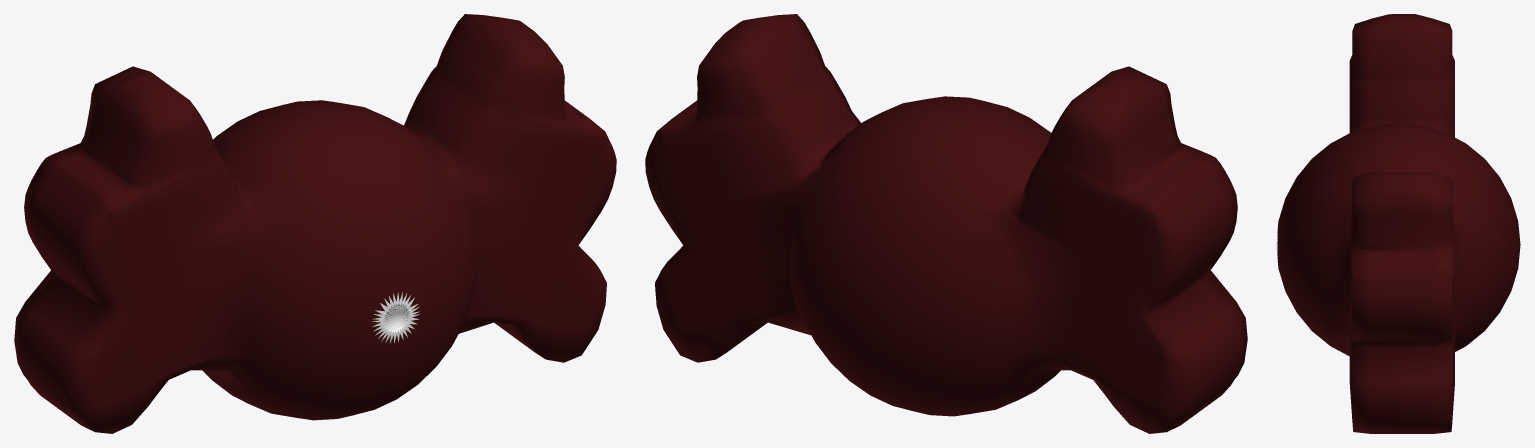
Rendered from ChucheRoja.fbx.
3 renders of one model, left to right at view 1: azimuth 30°, elevation 25°; view 2: azimuth 150°, elevation 25°; view 3: azimuth 270°, elevation 25°, orthographic. The views are drawn at different scales.
Visible parts, largest first — view 1: Box002; view 2: Box002; view 3: Box002.
Part boxes in pixels (left/top/right/bottom): Box002: left=14, top=14, right=616, bottom=433; Box002: left=645, top=14, right=1247, bottom=433; Box002: left=1276, top=14, right=1520, bottom=433.
Bounding box in the file's own units: 29.88 × 18.95 × 15.18.
